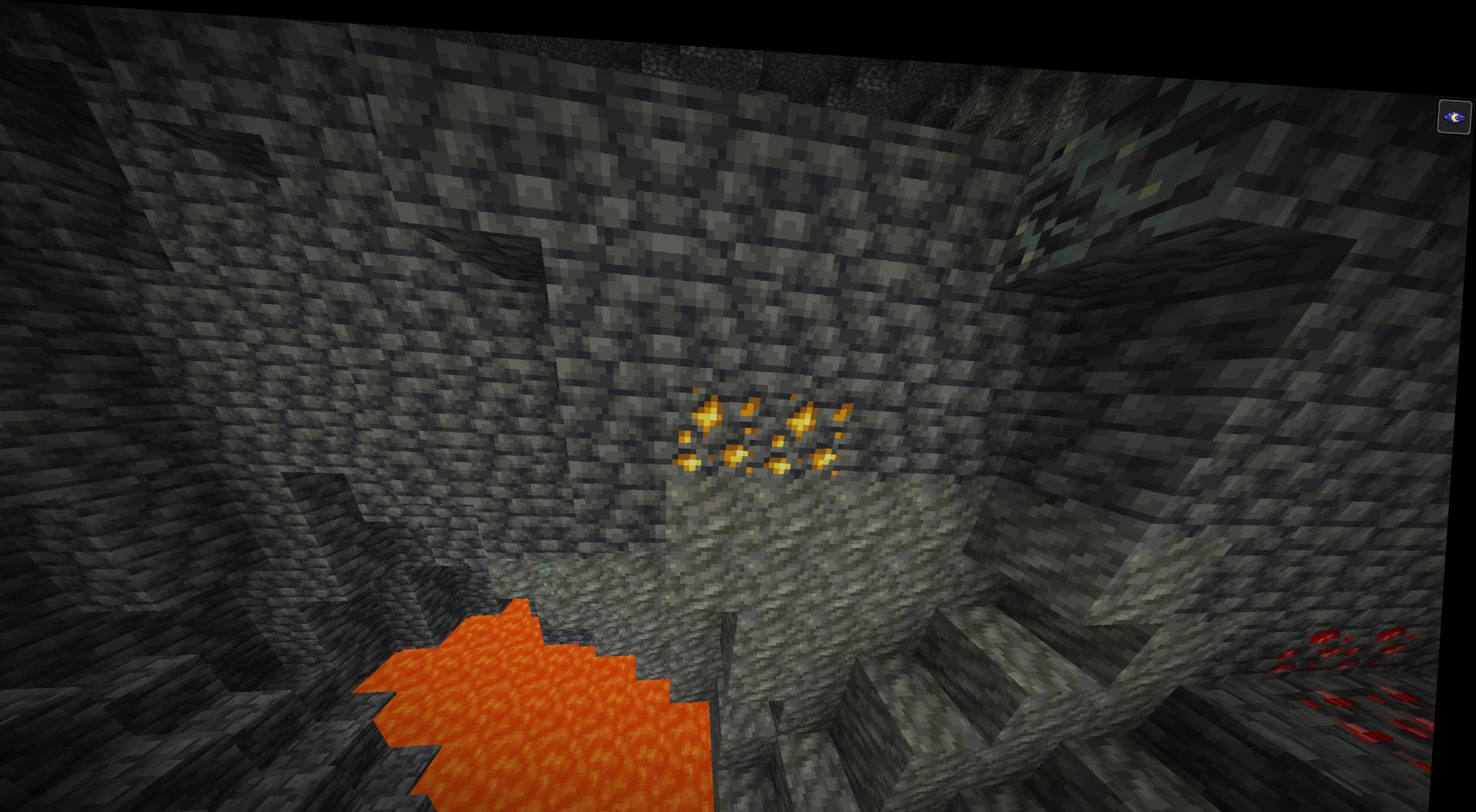gold ore: (765, 369, 857, 472), (670, 371, 767, 466)
redstone ore: (1287, 602, 1448, 746)
